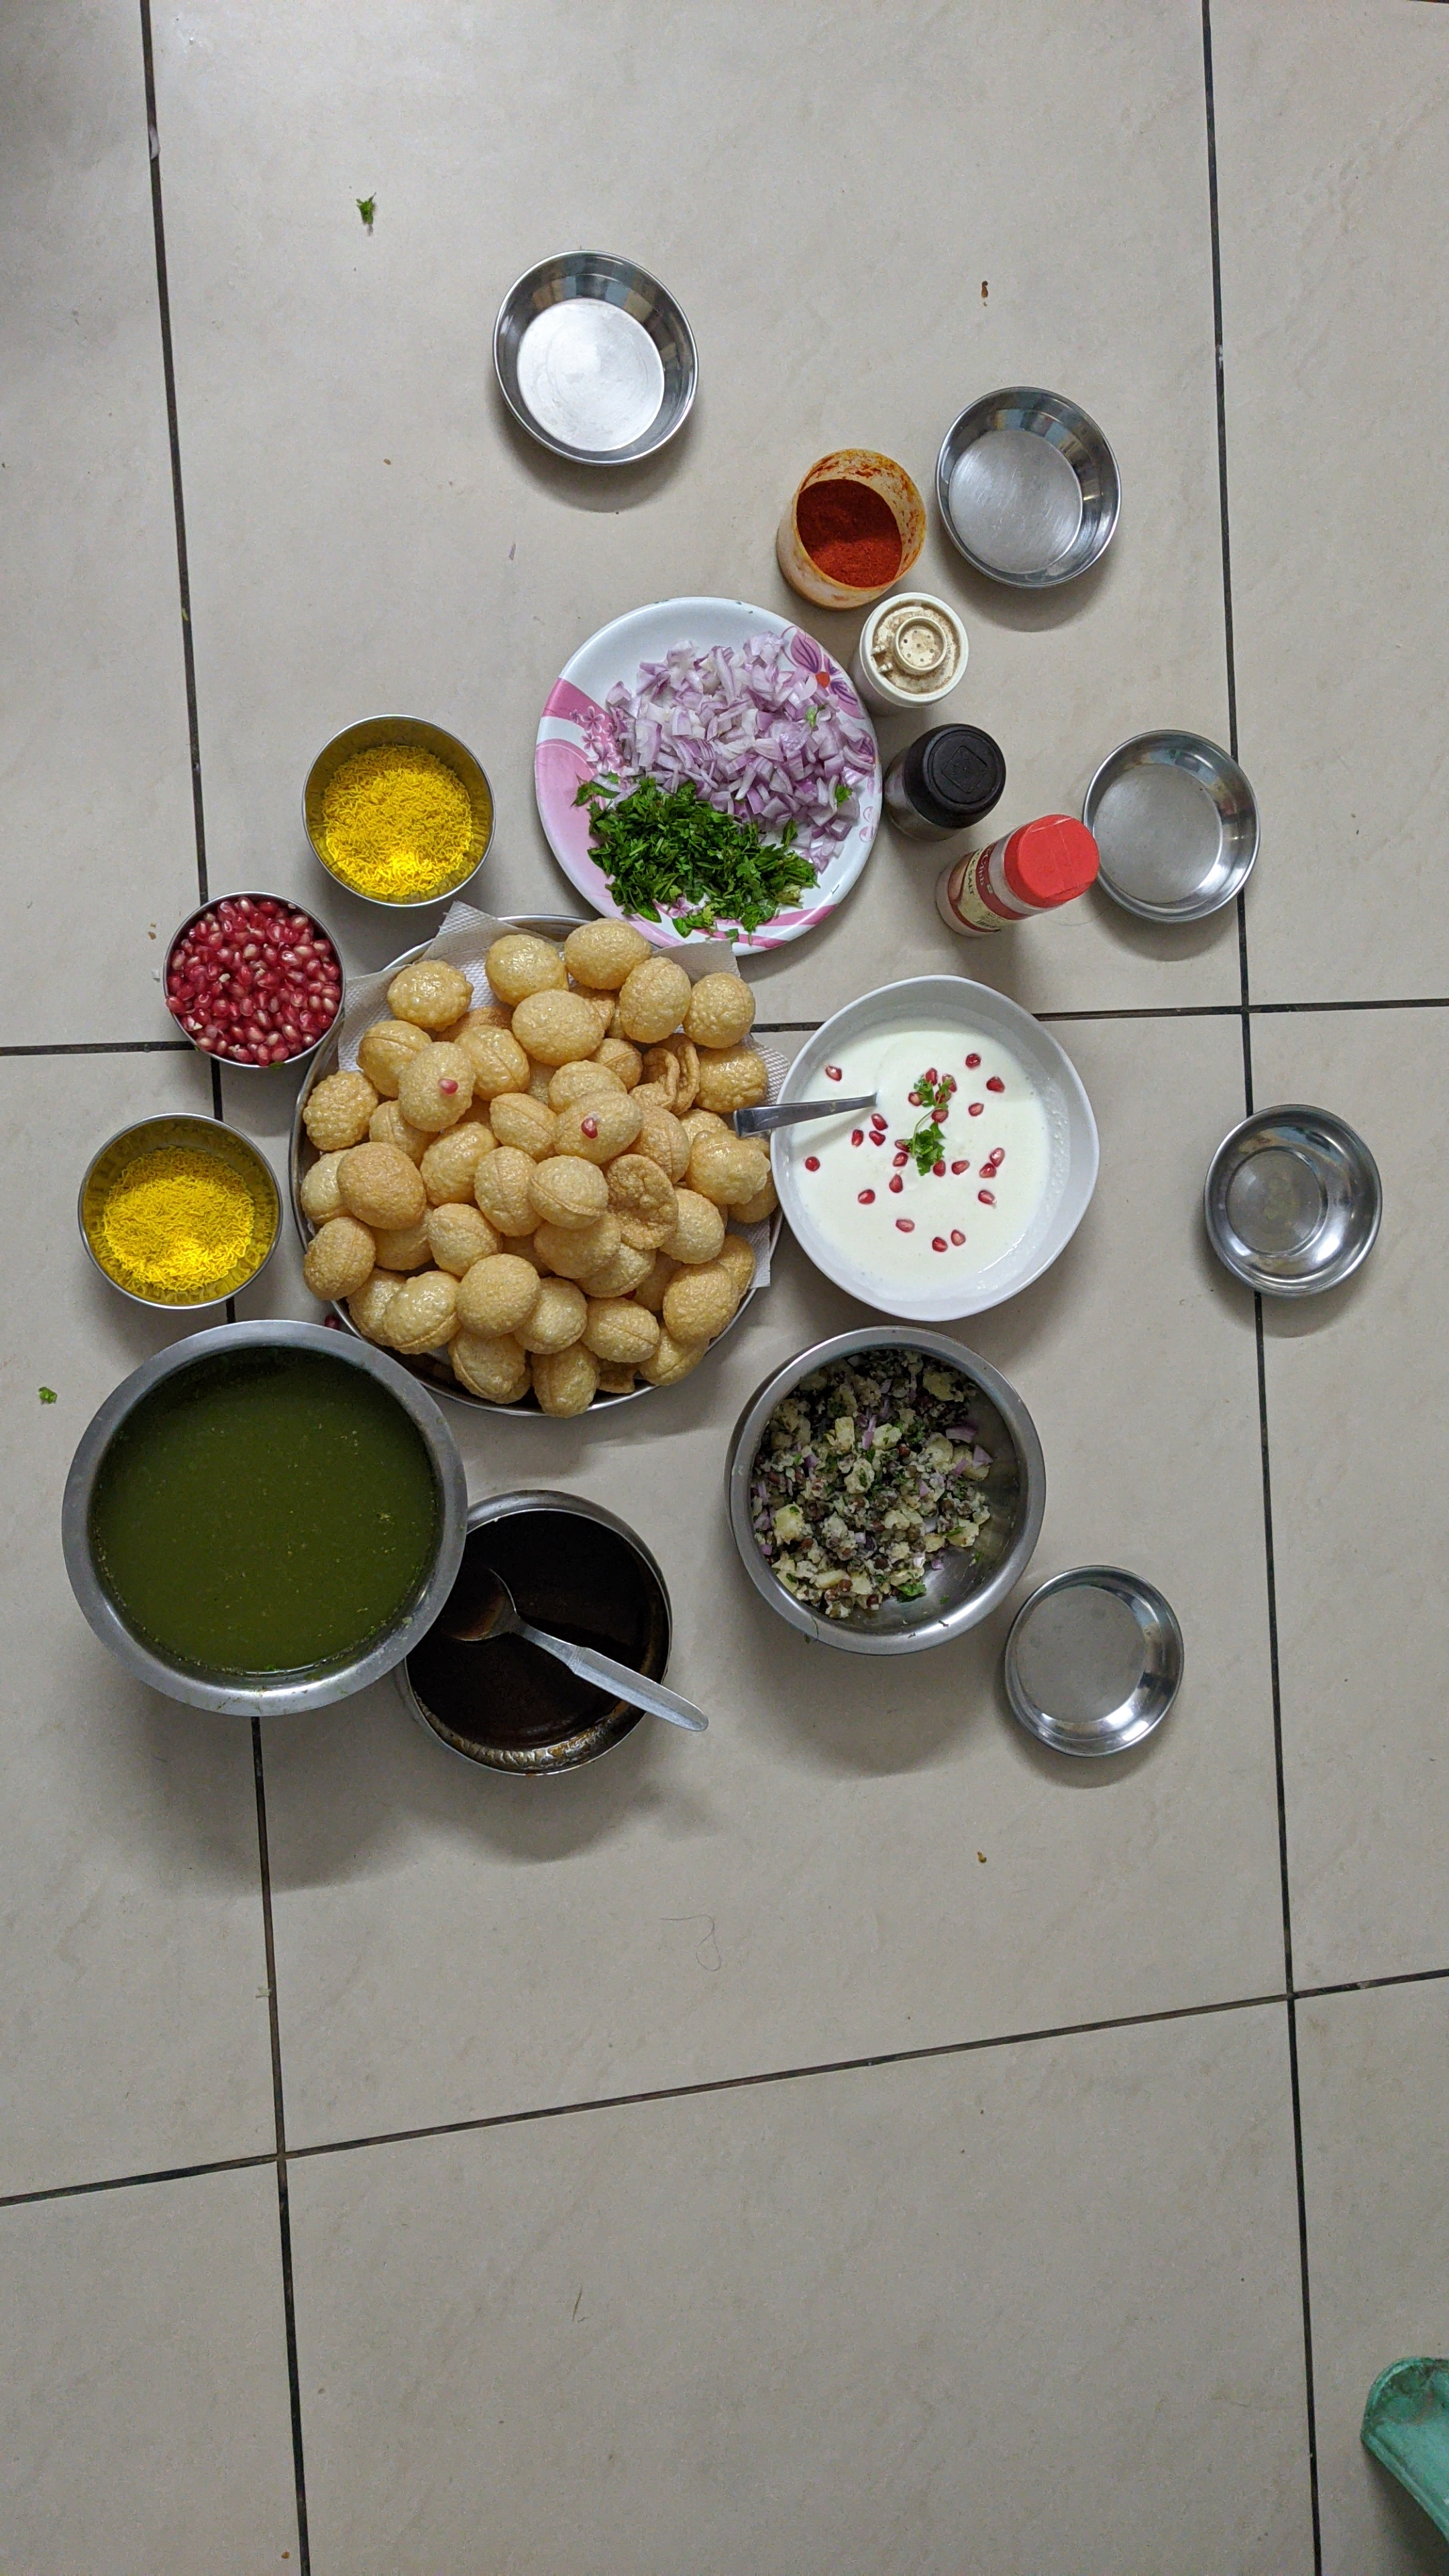food: (280, 908, 791, 1426), (88, 1334, 446, 1683), (770, 968, 1102, 1330), (727, 1322, 1056, 1651), (545, 628, 886, 936), (398, 1474, 676, 1783), (65, 1111, 288, 1315), (294, 711, 497, 915), (149, 878, 347, 1074)
